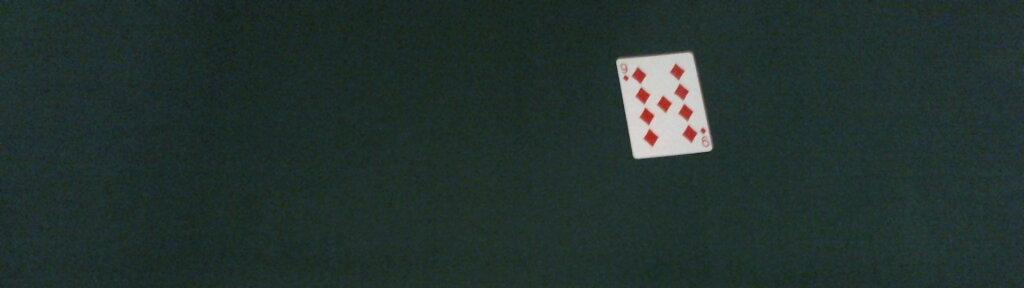nine: (616, 51, 713, 159)
